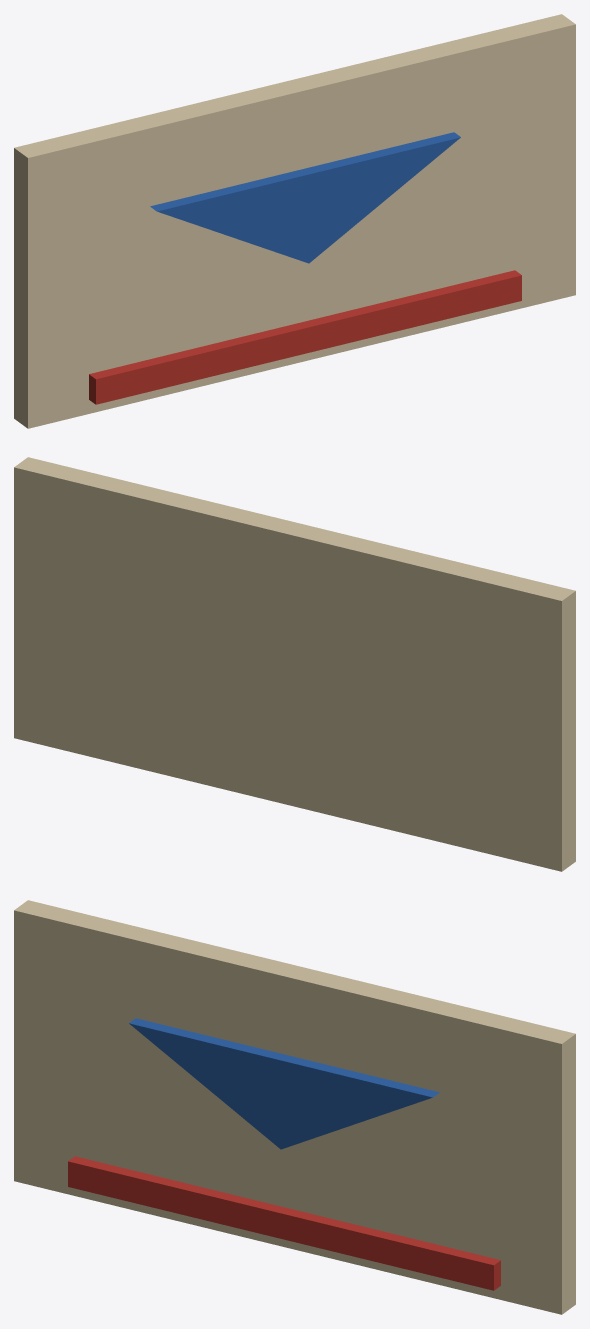
File: boat-ticket.glb
The picture shows the model from 3 angles, top to bottom: view 1: azimuth 30°, elevation 25°; view 2: azimuth 150°, elevation 25°; view 3: azimuth 330°, elevation 25°; orthographic projection.
Visible parts, largest first — view 1: boat-ticket; view 2: boat-ticket; view 3: boat-ticket.
Boxes of the visible parts, x1,y1,x2,y2 form: boat-ticket: [14, 14, 575, 428]; boat-ticket: [14, 457, 575, 871]; boat-ticket: [14, 900, 575, 1314].
Bounding box in the file's own units: 0.9 × 0.425 × 0.06.
